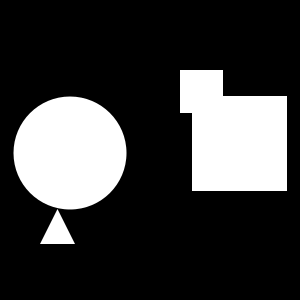circle: (192, 96, 287, 191), (180, 70, 223, 113)
rectangle: (14, 96, 126, 210)
triangle: (40, 209, 75, 244)
